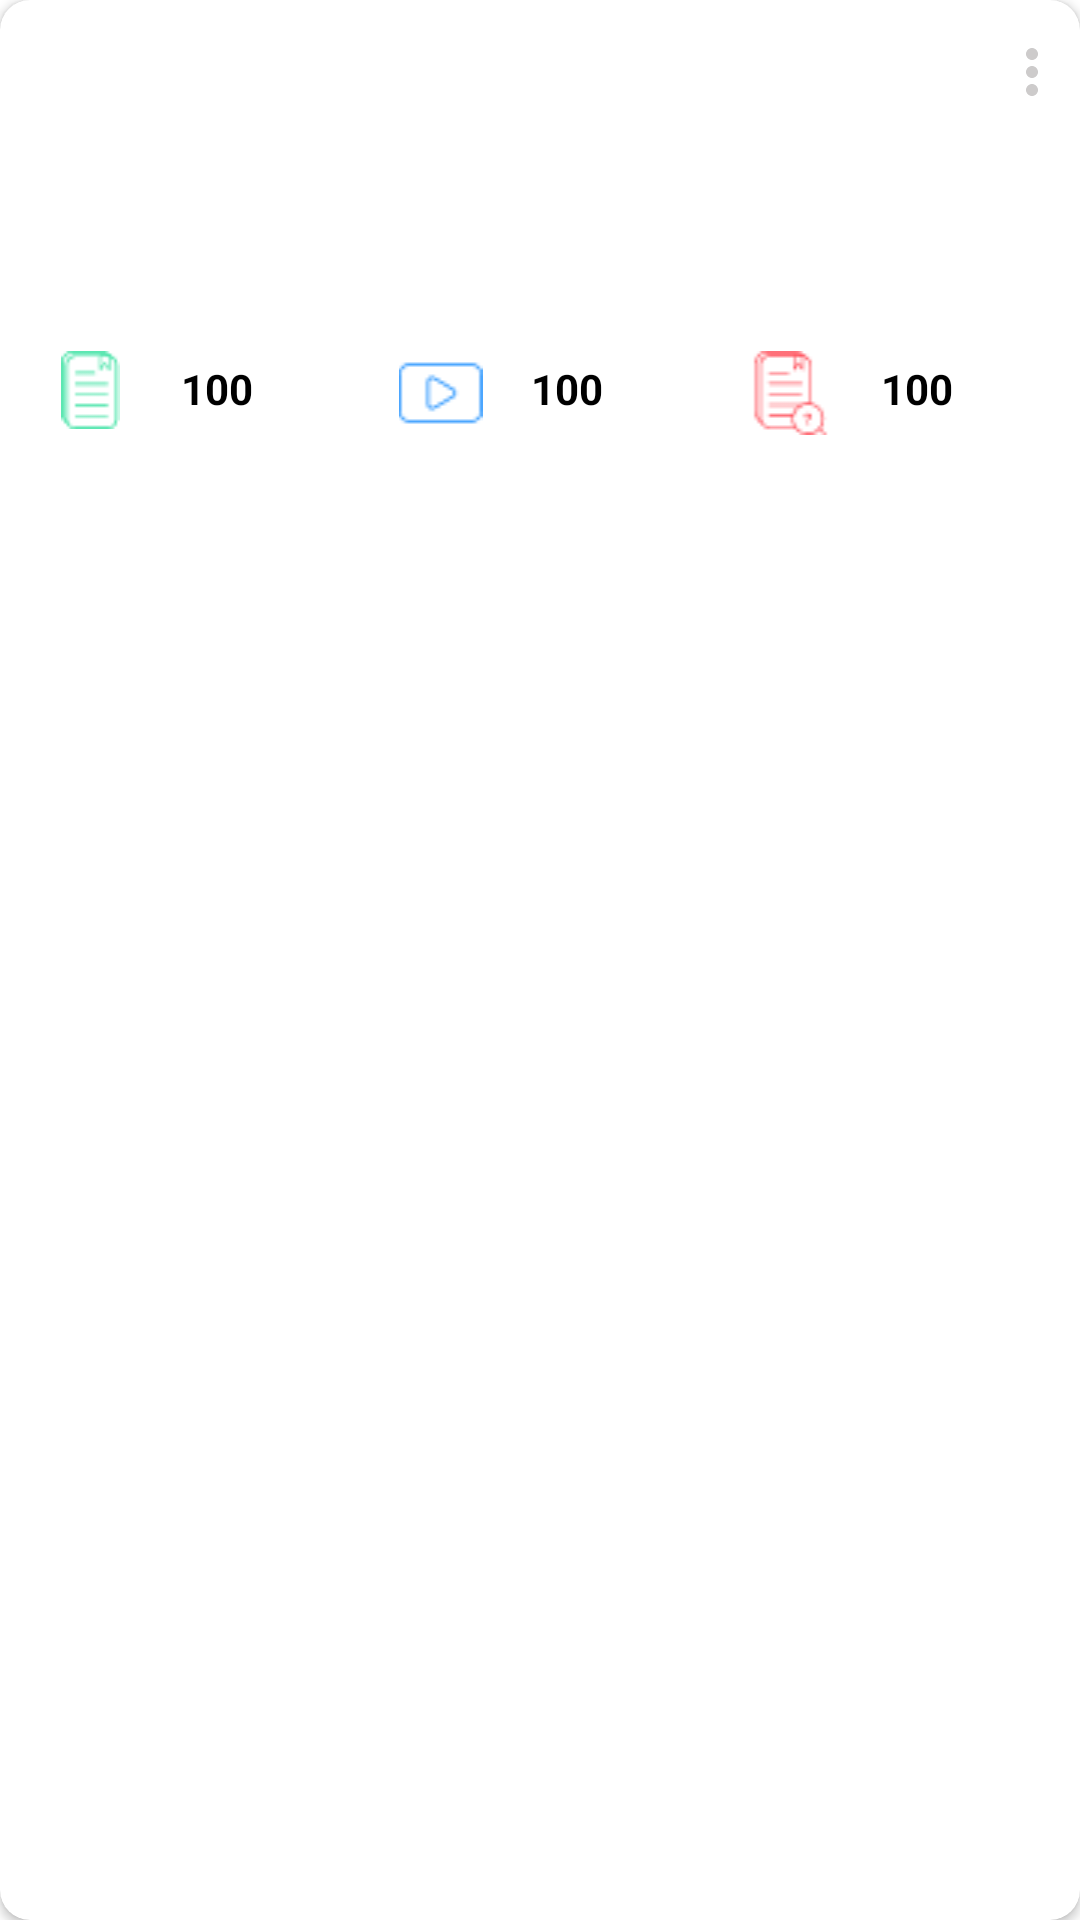

Icons on this 1080px×1920px Android screen, each with its box as (x1, y1, x2, y2):
more vert: (1026, 48, 1038, 96)
ques: (754, 351, 827, 435)
subject: (61, 351, 120, 429)
video: (399, 362, 483, 424)
